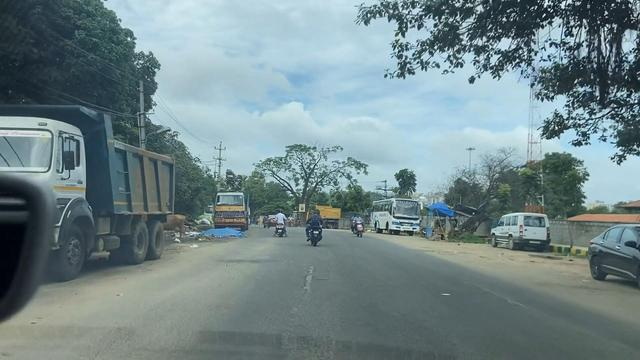HMV: (0, 104, 185, 281), (362, 183, 430, 241), (210, 173, 250, 233), (311, 197, 346, 236)
LMV: (548, 207, 640, 294), (475, 194, 552, 260), (294, 183, 341, 266), (257, 193, 287, 242), (350, 203, 364, 241)
RoadDamages: (295, 253, 324, 300)
